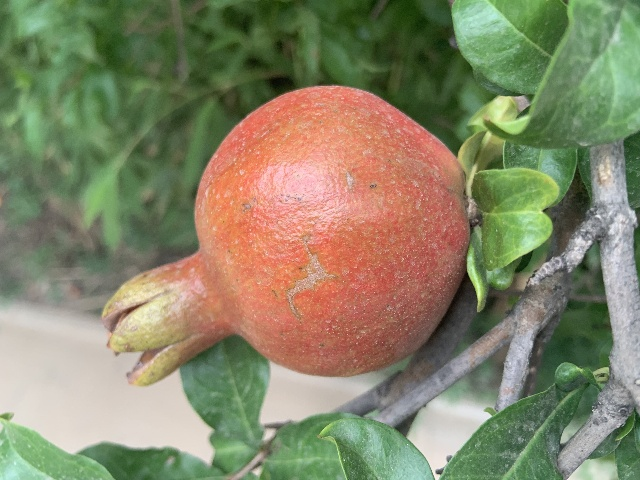ripe: (100, 85, 470, 384)
